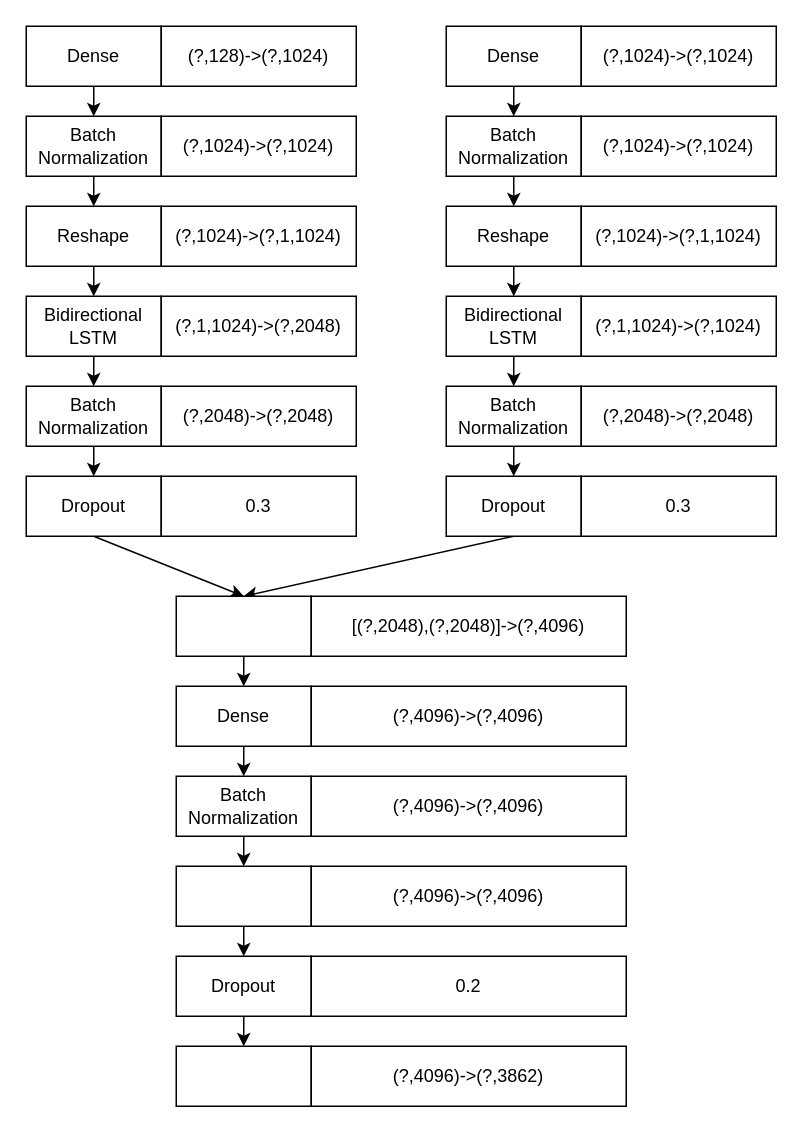
This 803x1133 diagram has some shape labels left out. Here are the shapes that lost their labels. From the top down, the box of each, then its label:
(175, 595, 311, 656): concatenate
(175, 865, 311, 926): LeakyReLU
(175, 1045, 311, 1106): Output
